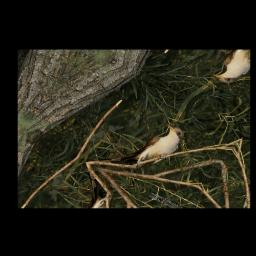Cuckoo: (95, 110, 193, 187)
